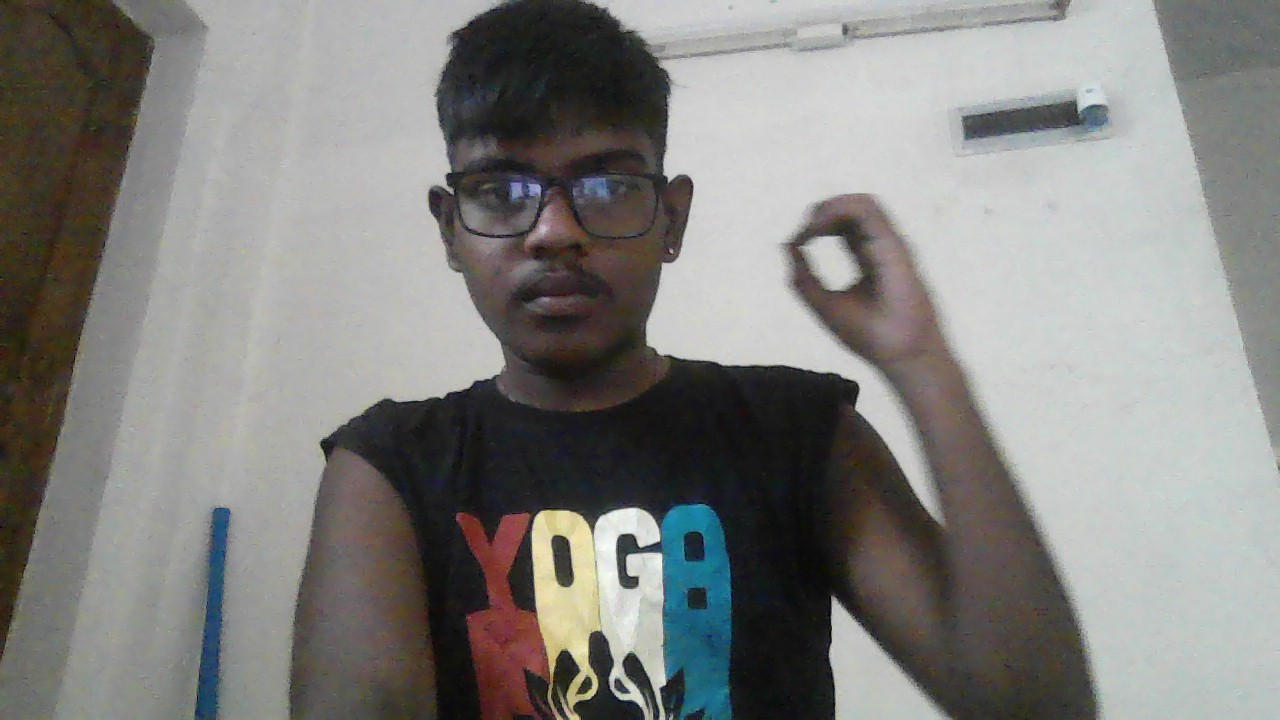O: (778, 195, 935, 366)
